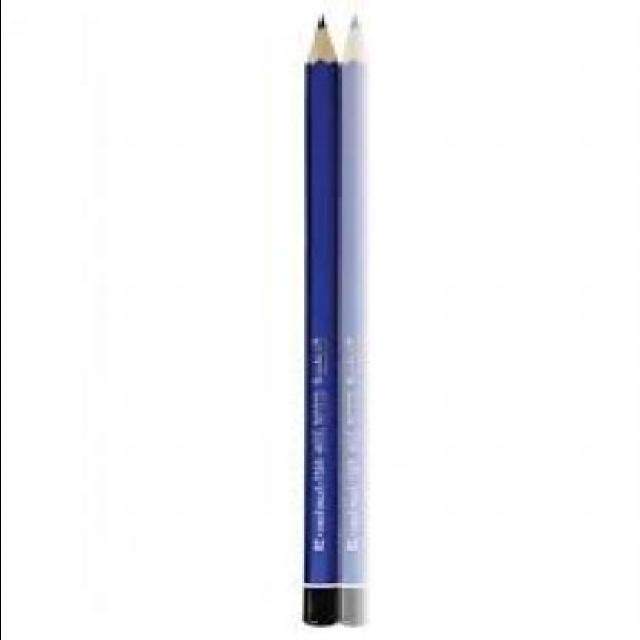pencil: (277, 5, 363, 91)
